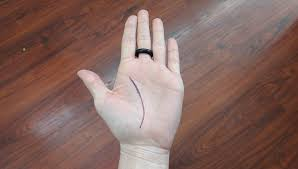palm: (115, 64, 183, 144)
